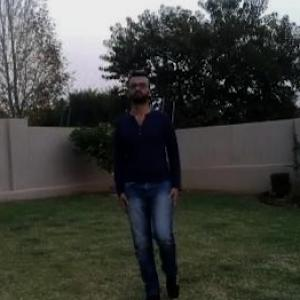follow: (111, 62, 184, 299)
